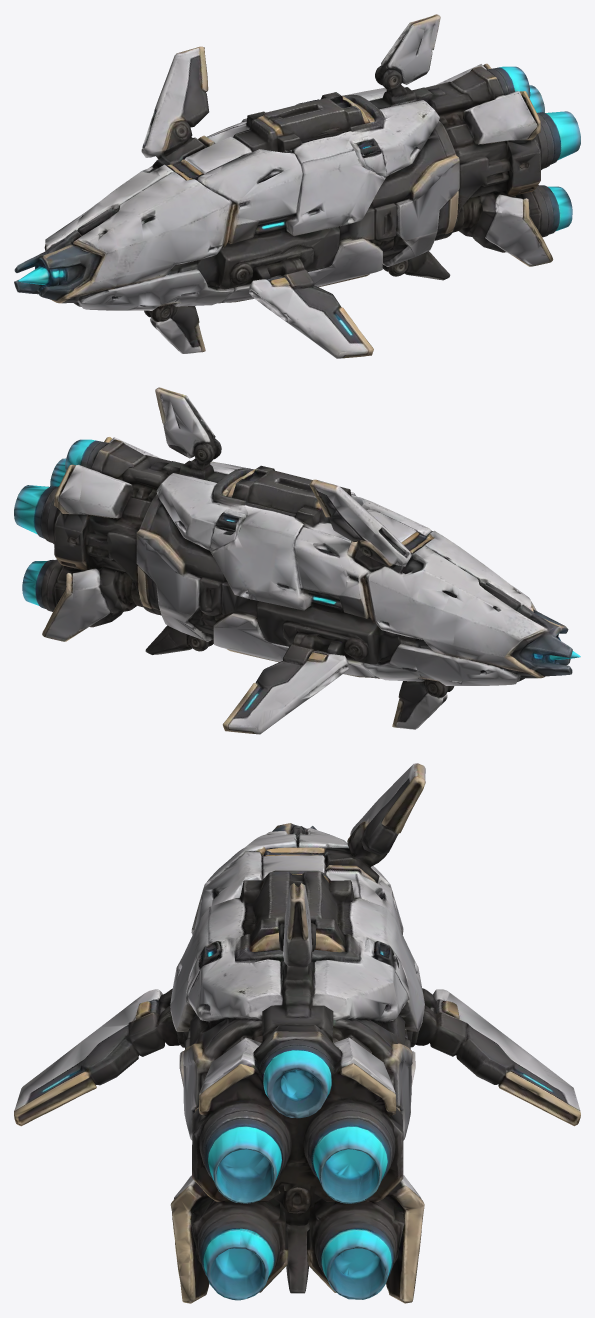
The model's file is u_pods.glb.
3 renders of one model, top to bottom at view 1: azimuth 30°, elevation 25°; view 2: azimuth 150°, elevation 25°; view 3: azimuth 270°, elevation 25°, orthographic. The views are drawn at different scales.
Visible parts, largest first — view 1: tripo_node_21e3d4e0-ef3c-4bf8-8aba-ab181032e1cd; view 2: tripo_node_21e3d4e0-ef3c-4bf8-8aba-ab181032e1cd; view 3: tripo_node_21e3d4e0-ef3c-4bf8-8aba-ab181032e1cd.
Part boxes in pixels (x1,y1,x2,y2): tripo_node_21e3d4e0-ef3c-4bf8-8aba-ab181032e1cd: (14, 14, 580, 358); tripo_node_21e3d4e0-ef3c-4bf8-8aba-ab181032e1cd: (14, 387, 580, 734); tripo_node_21e3d4e0-ef3c-4bf8-8aba-ab181032e1cd: (14, 763, 580, 1303).
Size of the model in its own units: 0.9983 by 0.4986 by 0.6212.
Materials: 1 (1 with a texture image).
